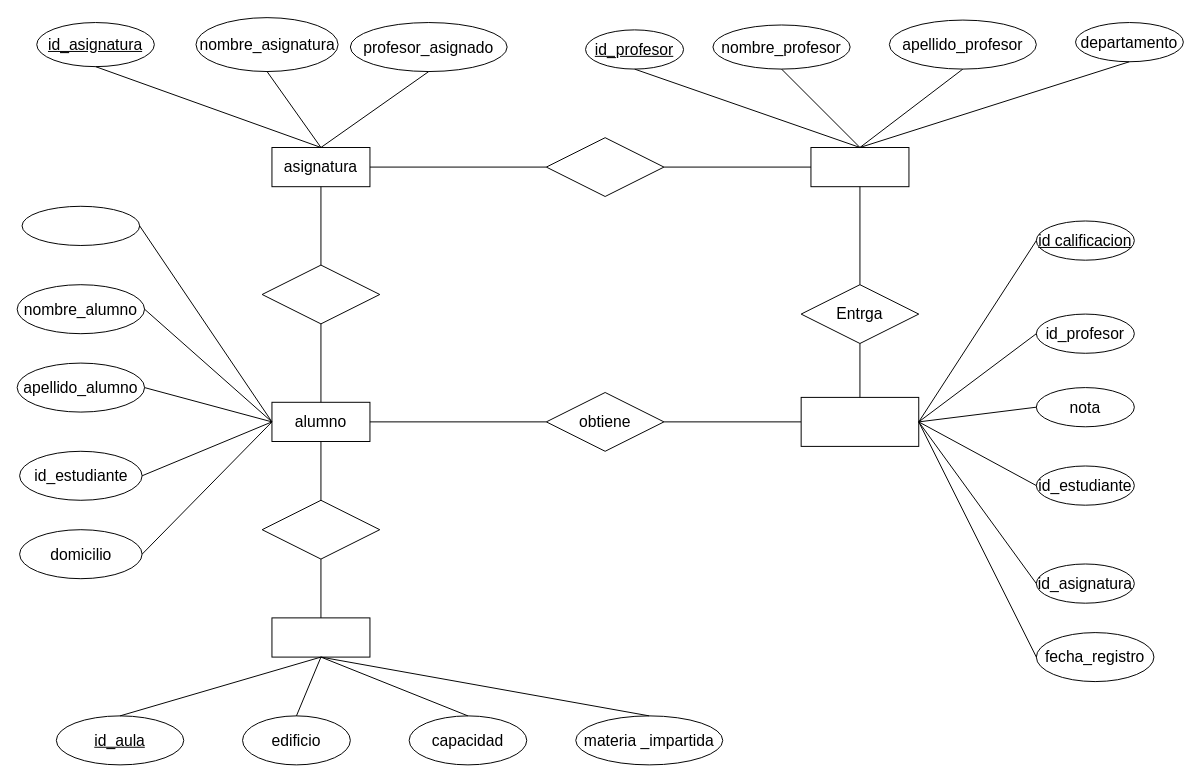
Some shapes in this 1201 by 782 pixel diagram are drawn without their labels. The shapes that lost their labels are listed below. From the top down, each one's centre as x and y in pixels, then its label:
the point at 604,166: Imparte
the point at 859,167: Profesor
the point at 80,225: dni
the point at 320,294: matricula
the point at 859,421: calificaciones
the point at 320,529: asiste_a
the point at 320,637: aula
